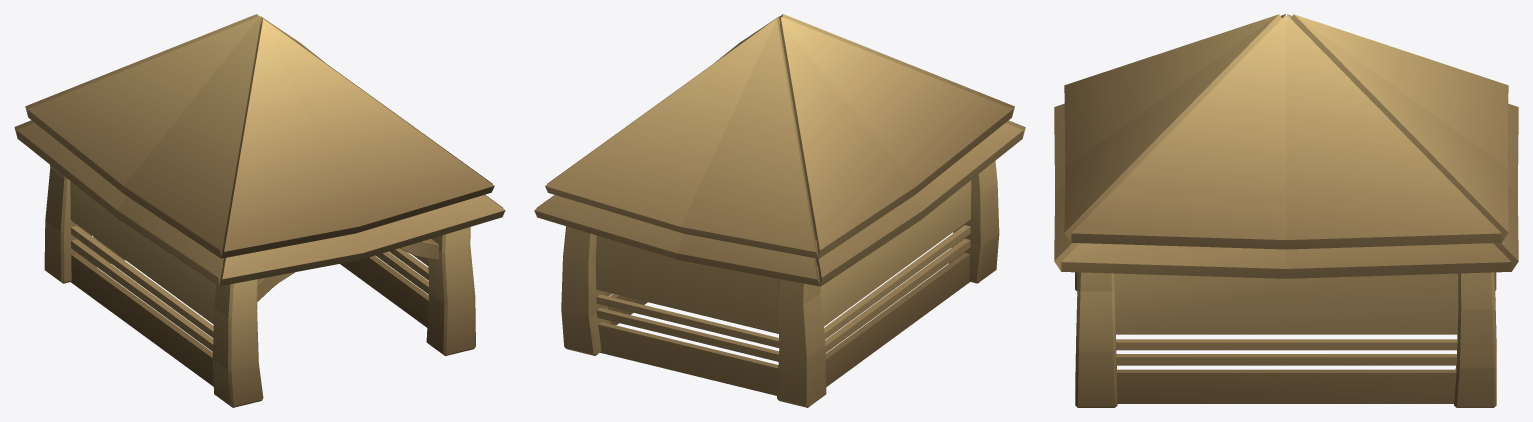
Rendered from Raven_Hut.fbx.
3 views of the same model, side by side, from view 1: azimuth 30°, elevation 25°; view 2: azimuth 150°, elevation 25°; view 3: azimuth 270°, elevation 25° (orthographic). The views are drawn at different scales.
Parts seen in each view (by area): view 1: Plane.002, Plane.004, Plane.001, Cube, Plane.003, Cube.003, Cube.001; view 2: Plane.002, Plane, Plane.004, Plane.001, Cube.003, Cube; view 3: Plane.002, Plane.003, Plane.001, Cube, Cube.003.
Part boxes in pixels (x1,y1,x2,y2): Plane.002: (25, 14, 494, 258); Plane.004: (70, 181, 215, 386); Plane.001: (14, 120, 505, 286); Cube: (212, 227, 475, 407); Plane.003: (340, 248, 428, 327); Cube.003: (44, 165, 93, 283); Cube.001: (400, 239, 439, 260); Plane.002: (545, 14, 1014, 258); Plane: (595, 235, 779, 395); Plane.004: (820, 180, 971, 386); Plane.001: (534, 120, 1025, 286); Cube.003: (561, 226, 826, 407); Cube: (949, 161, 999, 283); Plane.002: (1064, 14, 1508, 249); Plane.003: (1114, 273, 1458, 403); Plane.001: (1054, 103, 1518, 278); Cube: (1075, 272, 1117, 407); Cube.003: (1454, 272, 1496, 407).
Bounding box in the file's own units: 656 × 646 × 829.
Materials: 1 (1 with a texture image).
